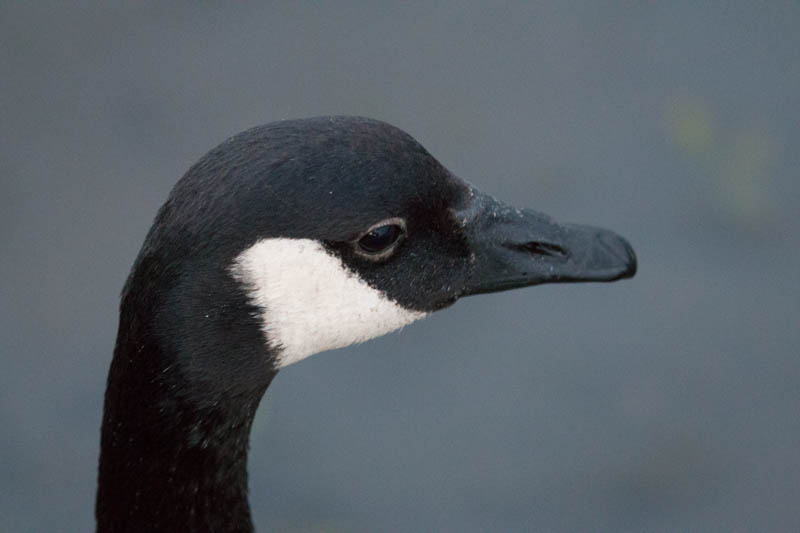goose-head: (119, 114, 639, 377)
